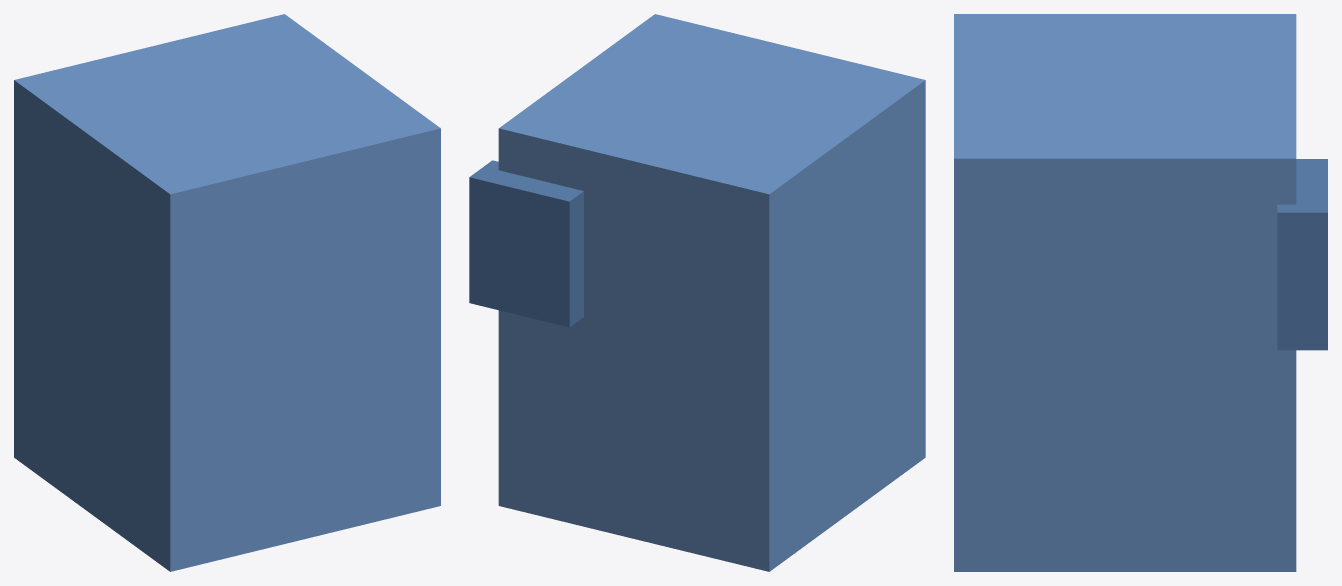
File: fazendeiro_coxa.glb
3 views of the same model, side by side, from view 1: azimuth 30°, elevation 25°; view 2: azimuth 150°, elevation 25°; view 3: azimuth 270°, elevation 25° (orthographic). The views are drawn at different scales.
Parts seen in each view (by area): view 1: fazendeiro_coxa; view 2: fazendeiro_coxa; view 3: fazendeiro_coxa.
Boxes of the visible parts, left/top/right/bottom form: fazendeiro_coxa: left=14, top=14, right=440, bottom=571; fazendeiro_coxa: left=469, top=14, right=925, bottom=571; fazendeiro_coxa: left=954, top=14, right=1327, bottom=571.
Size of the model in its own units: 0.285 by 0.36 by 0.295.
